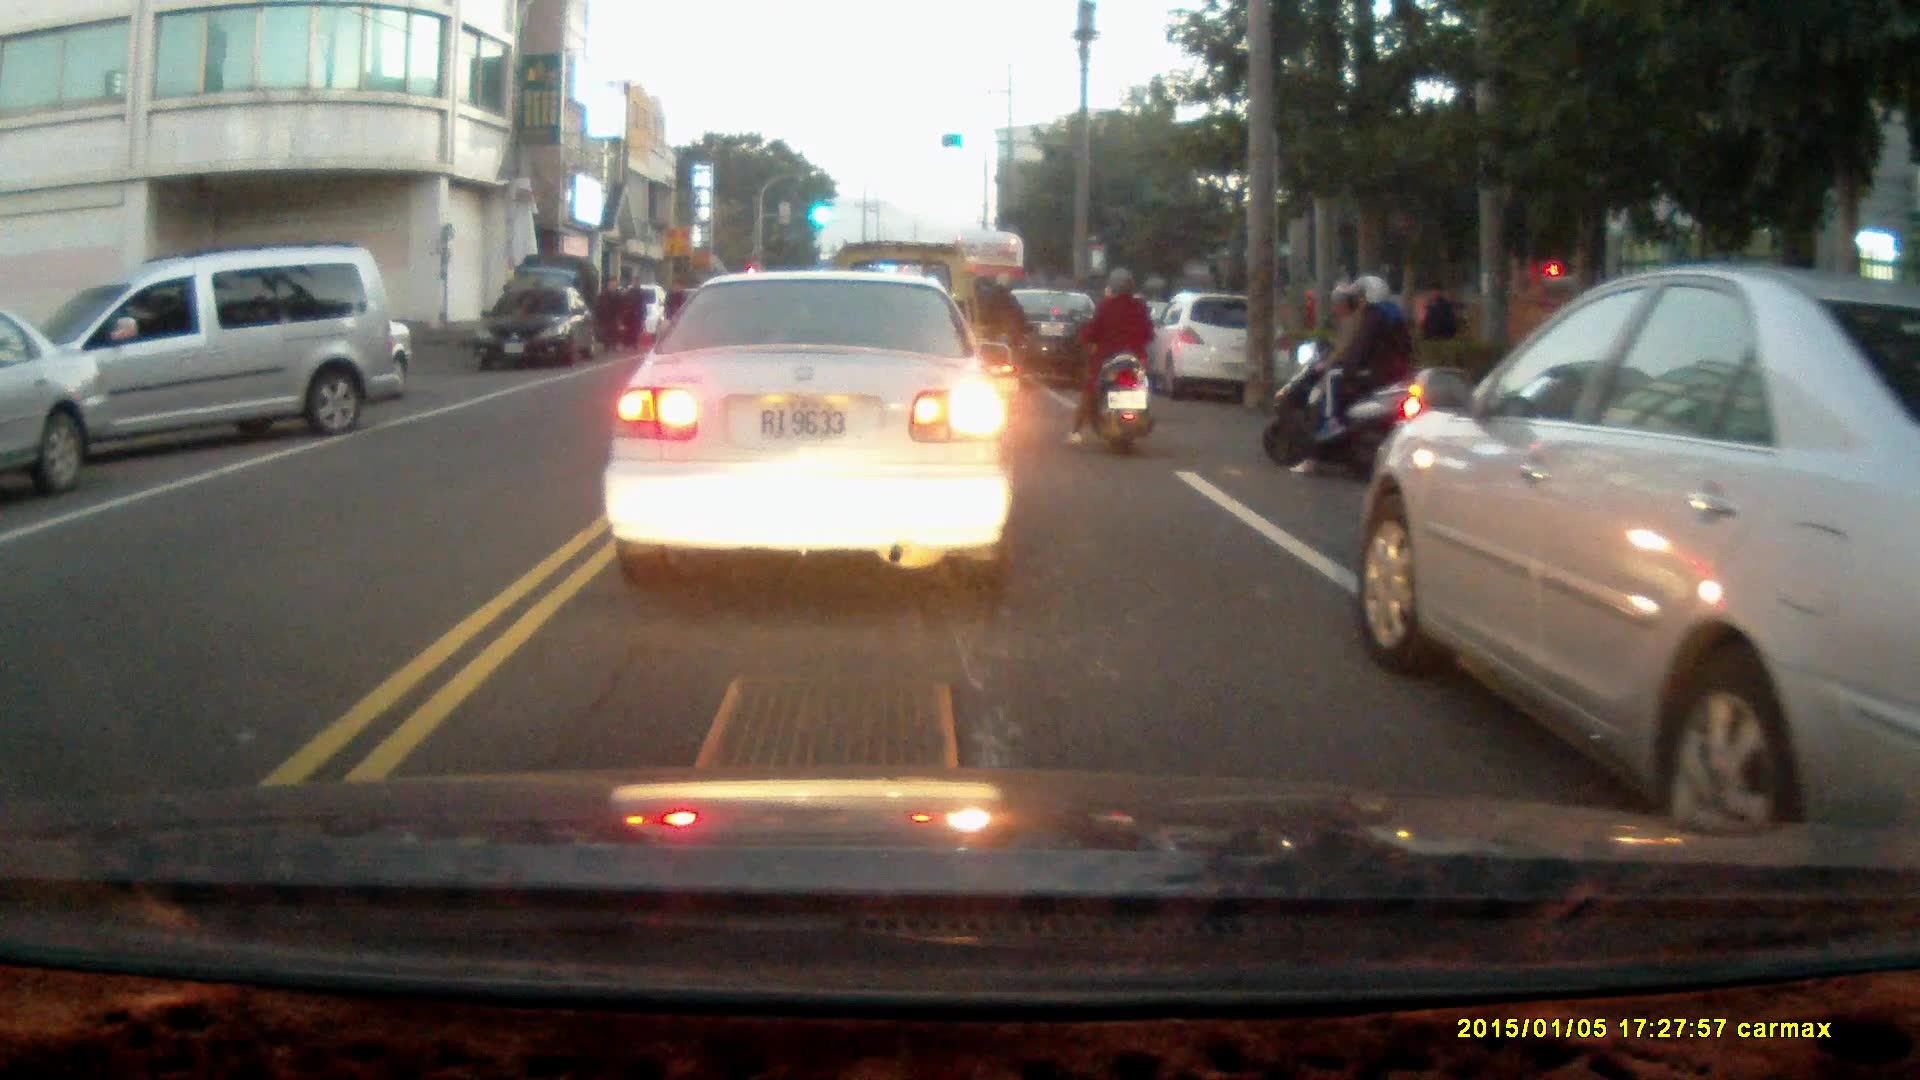pedestrian: (1417, 276, 1455, 369), (596, 272, 626, 353), (618, 273, 645, 353), (661, 276, 689, 346)
rider: (1260, 268, 1421, 476), (1060, 262, 1156, 451), (967, 270, 1030, 393)
vehicle: (1359, 258, 1918, 843), (612, 268, 1020, 594), (15, 246, 393, 465), (1, 307, 110, 498), (1144, 294, 1288, 399), (975, 286, 1115, 390), (482, 280, 601, 368)
